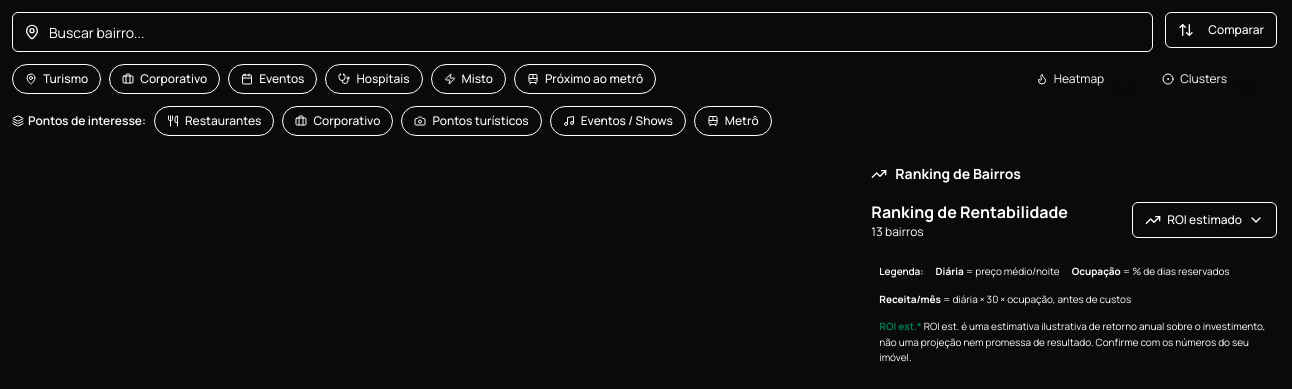
Test: MapaBairrosEmbed › busca sem resultado mostra estado vazio e 'Limpar filtros' restaura a lista
The image size is (1292, 389).
Later steps or results of the test are not shown.
Type "Copacabana" into the search field labelled "Buscar bairro" at point(583, 32), box [12,12,1153,52]
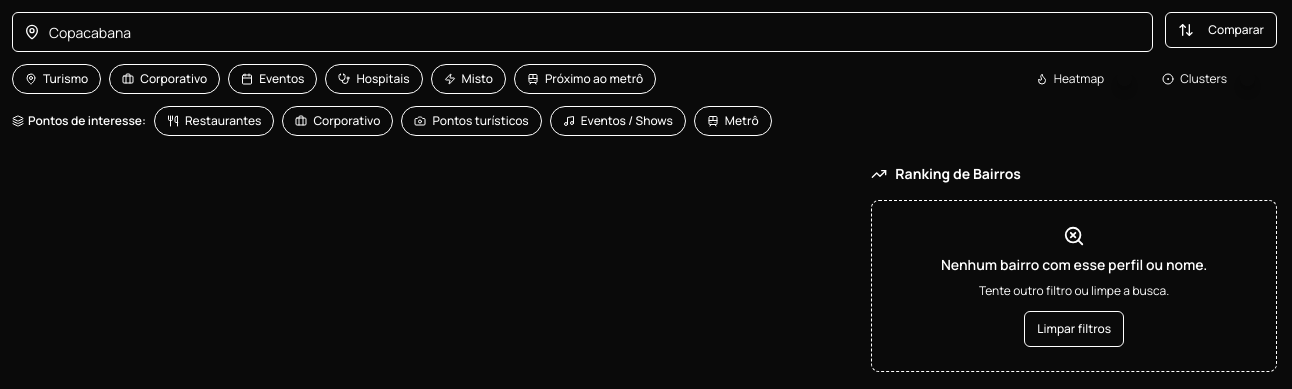
expect the text "Nenhum bairro com esse perfil ou nome." is shown: met, box [941,255,1207,275]
